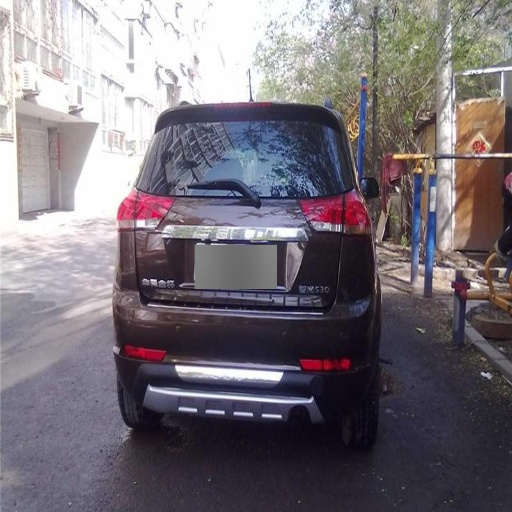back_bumper: (118, 240, 383, 416)
tailgate: (242, 221, 339, 311)
trunk: (135, 194, 344, 308)
